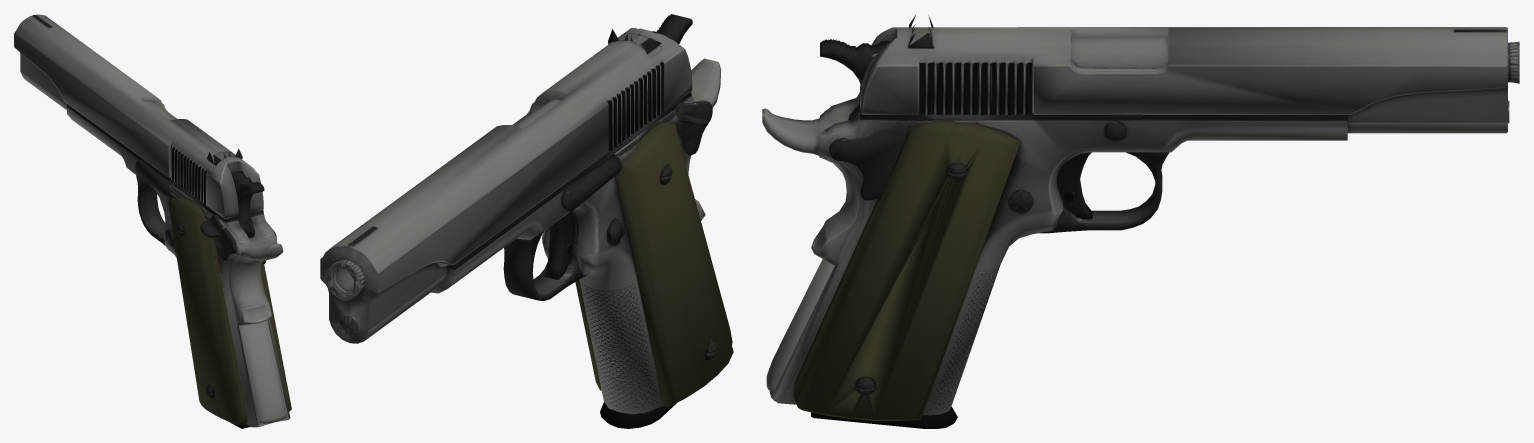
Rendered from pistol.glb.
The picture shows the model from 3 angles, left to right: view 1: azimuth 30°, elevation 25°; view 2: azimuth 150°, elevation 25°; view 3: azimuth 270°, elevation 25°; orthographic projection. The views are drawn at different scales.
Visible parts, largest first — view 1: body, furniture, magazine; view 2: body, furniture, magazine; view 3: body, furniture, magazine.
Boxes of the visible parts, left/top/right/bottom form: body: left=14, top=14, right=283, bottom=260; furniture: left=164, top=202, right=291, bottom=427; magazine: left=203, top=394, right=290, bottom=428; body: left=320, top=14, right=720, bottom=343; furniture: left=575, top=99, right=733, bottom=414; magazine: left=600, top=330, right=732, bottom=428; body: left=762, top=15, right=1519, bottom=265; furniture: left=771, top=114, right=1049, bottom=419; magazine: left=766, top=365, right=957, bottom=428.
Bounding box in the file's own units: 0.0469 × 0.1556 × 0.2695.
2 materials, 2 textured.
